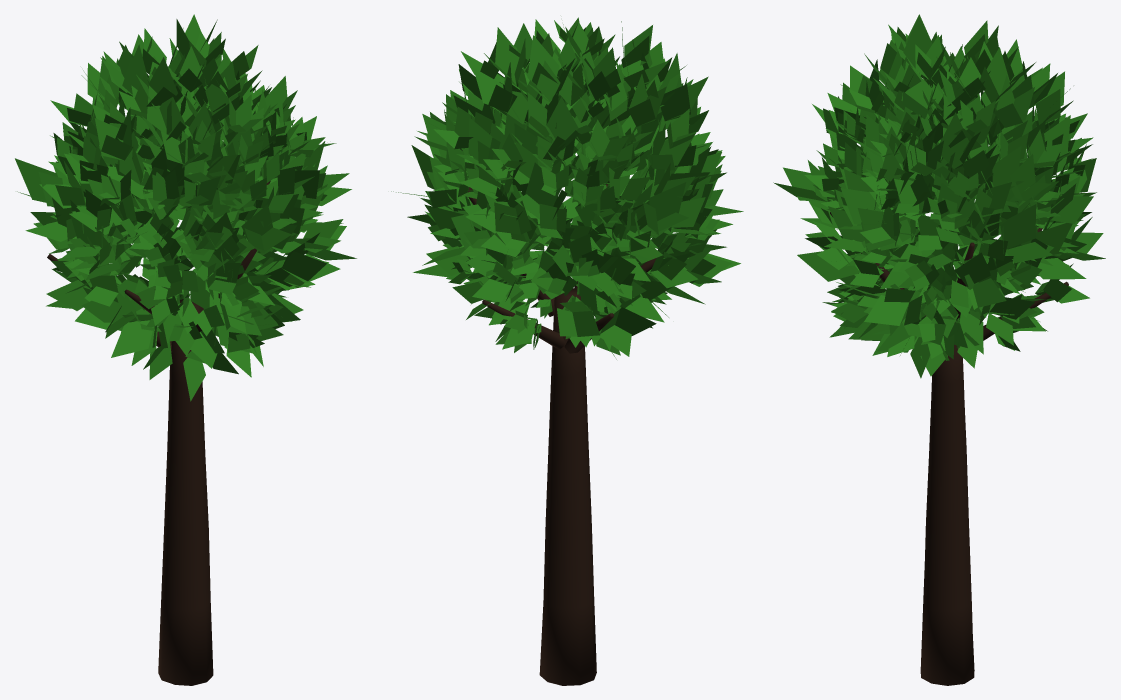
File: Tree_08_A_LOD0.obj
The picture shows the model from 3 angles, left to right: view 1: azimuth 30°, elevation 25°; view 2: azimuth 150°, elevation 25°; view 3: azimuth 270°, elevation 25°; orthographic projection. The views are drawn at different scales.
Parts seen in each view (by area): view 1: Leaves, Trunk; view 2: Leaves, Trunk; view 3: Leaves, Trunk.
Boxes of the visible parts, bbox=[...] form: Leaves: bbox=[15, 14, 356, 401]; Trunk: bbox=[47, 181, 270, 685]; Leaves: bbox=[391, 17, 743, 359]; Trunk: bbox=[465, 180, 656, 685]; Leaves: bbox=[773, 14, 1105, 378]; Trunk: bbox=[830, 212, 1068, 685].
Bounding box in the file's own units: 4.42 × 9.11 × 4.3.
